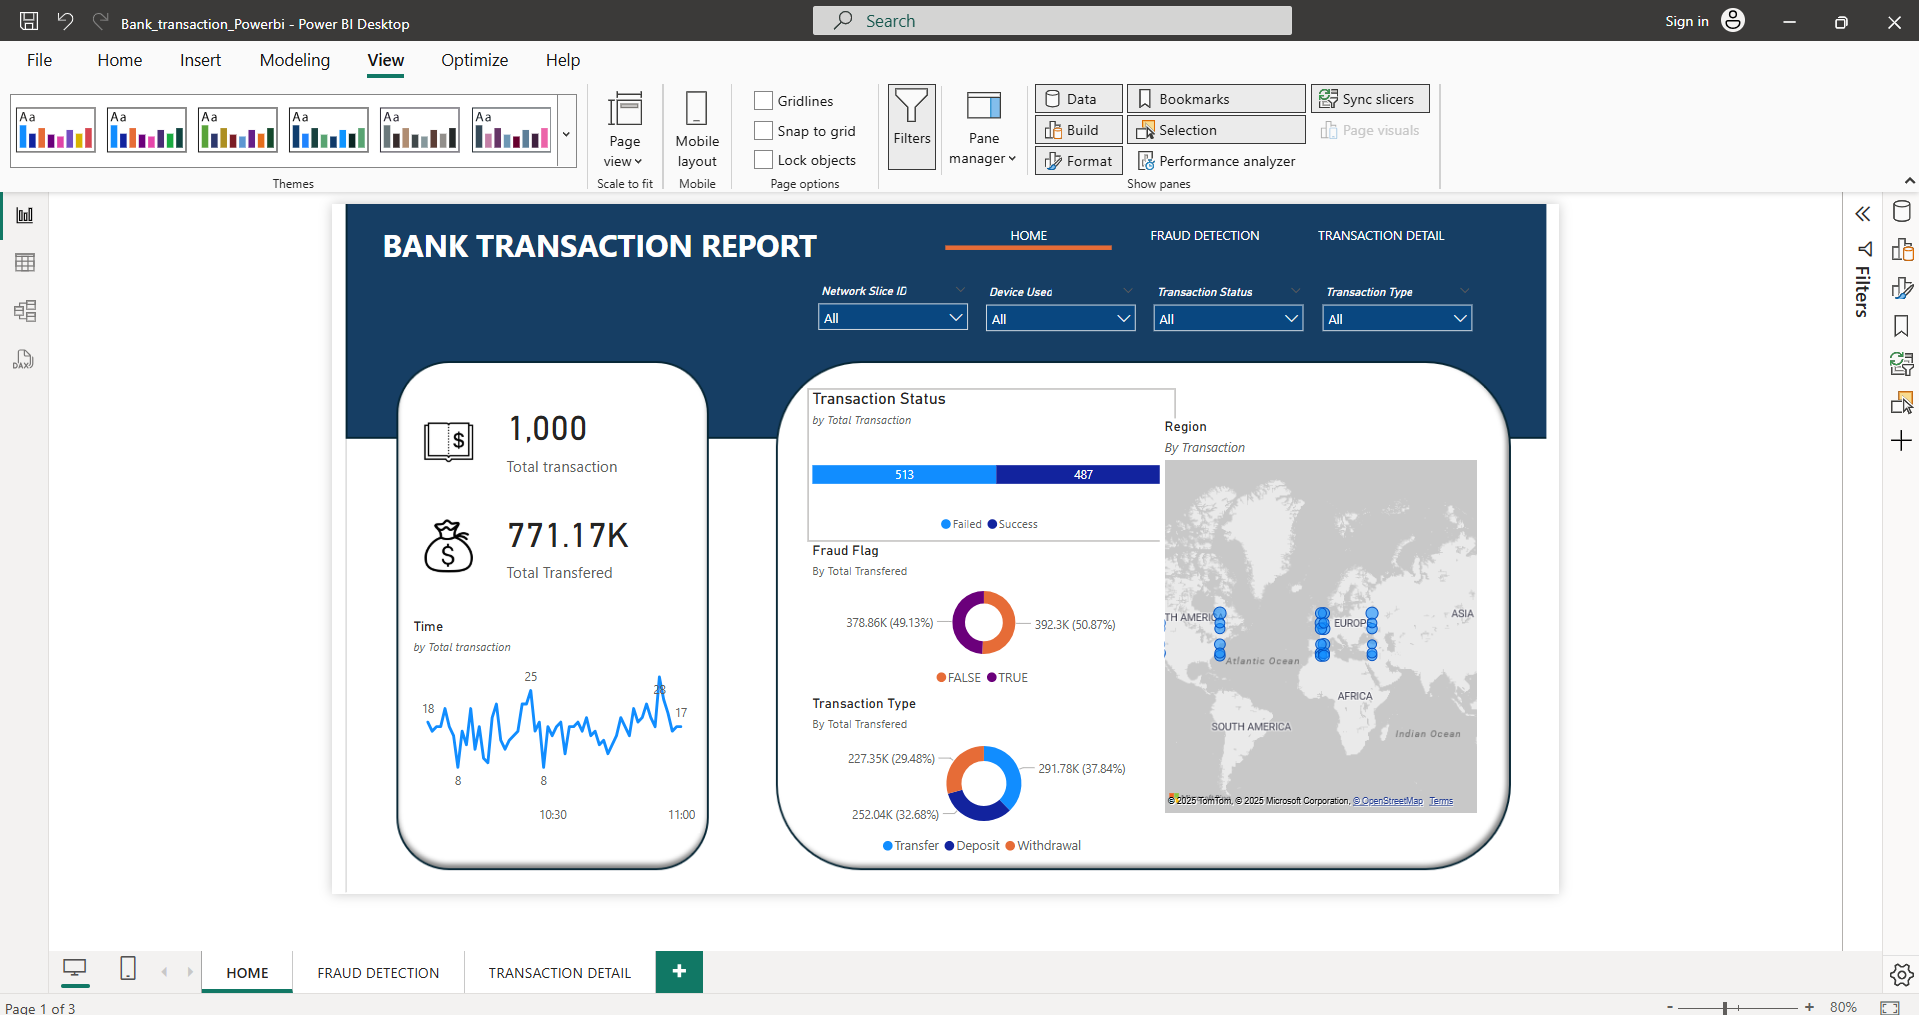

What the dashboard file says about the page in this screenshot:
{"tool":"powerbi","page":{"name":"HOME ","canvas":[1280,720],"ordinal":0},"visuals":[{"type":"cardVisual","fields":{"Data":["bank transaction_data (1).Total transaction"]},"box":[80,192,288,112],"z":0},{"type":"cardVisual","fields":{"Data":["bank transaction_data (1).Total Transaction Amount"]},"box":[80,304,304,112],"z":1000},{"type":"lineChart","title":"Time","fields":{"Y":["bank transaction_data (1).Total transaction"],"Category":["bank transaction_data (1).Time"]},"box":[80,432,304,224],"z":2000},{"type":"barChart","title":"Transaction Status","fields":{"Y":["bank transaction_data (1).Total transaction"],"Series":["bank transaction_data (1).Transaction Status"]},"box":[496,192,384,160],"z":3000},{"type":"donutChart","title":"Fraud Flag","fields":{"Y":["bank transaction_data (1).Total Transfered"],"Category":["bank transaction_data (1).Fraud Flag"]},"box":[496,352,368,160],"z":4000},{"type":"donutChart","title":"Transaction Type","fields":{"Y":["bank transaction_data (1).Total Transfered"],"Category":["bank transaction_data (1).Transaction Type"]},"box":[496,512,368,176],"z":5000},{"type":"map","title":"Region","fields":{"Size":["bank transaction_data (1).Total Transfered"],"Y":["bank transaction_data (1).Latitude Value"],"X":["bank transaction_data (1).Longitude Value"]},"box":[864,224,336,416],"z":6000},{"type":"slicer","fields":{"Values":["bank transaction_data (1).Transaction Type"]},"box":[1024,80,176,64],"z":7000},{"type":"slicer","fields":{"Values":["bank transaction_data (1).Network Slice ID"]},"box":[497.2,79,176,64],"z":8000},{"type":"slicer","fields":{"Values":["bank transaction_data (1).Device Used"]},"box":[672,80,176,64],"z":9000},{"type":"slicer","fields":{"Values":["bank transaction_data (1).Transaction Status"]},"box":[848,80,176,64],"z":10000},{"type":"textbox","box":[48,16,512,64],"z":11000},{"type":"pageNavigator","box":[640,16,544,32],"z":12000}]}

Visuals, with their boxes on the page's 1280x720 design canvas (x1, y1, x2, y2). These are canvas units, not pixel positions in the 1919x1015 screenshot, which may show the page scaled, cropped or inside an application window:
cardVisual - bank transaction_data (1).Total transaction: box=[80, 192, 368, 304]
cardVisual - bank transaction_data (1).Total Transaction Amount: box=[80, 304, 384, 416]
"Time" lineChart: box=[80, 432, 384, 656]
"Transaction Status" barChart: box=[496, 192, 880, 352]
"Fraud Flag" donutChart: box=[496, 352, 864, 512]
"Transaction Type" donutChart: box=[496, 512, 864, 688]
"Region" map: box=[864, 224, 1200, 640]
slicer - bank transaction_data (1).Transaction Type: box=[1024, 80, 1200, 144]
slicer - bank transaction_data (1).Network Slice ID: box=[497, 79, 673, 143]
slicer - bank transaction_data (1).Device Used: box=[672, 80, 848, 144]
slicer - bank transaction_data (1).Transaction Status: box=[848, 80, 1024, 144]
textbox: box=[48, 16, 560, 80]
pageNavigator: box=[640, 16, 1184, 48]
